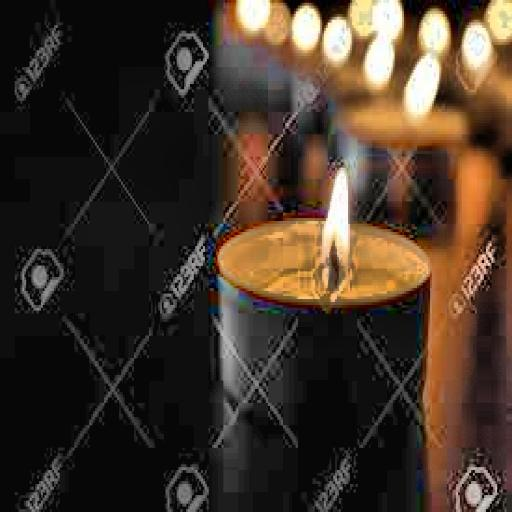fire: (320, 156, 360, 282)
